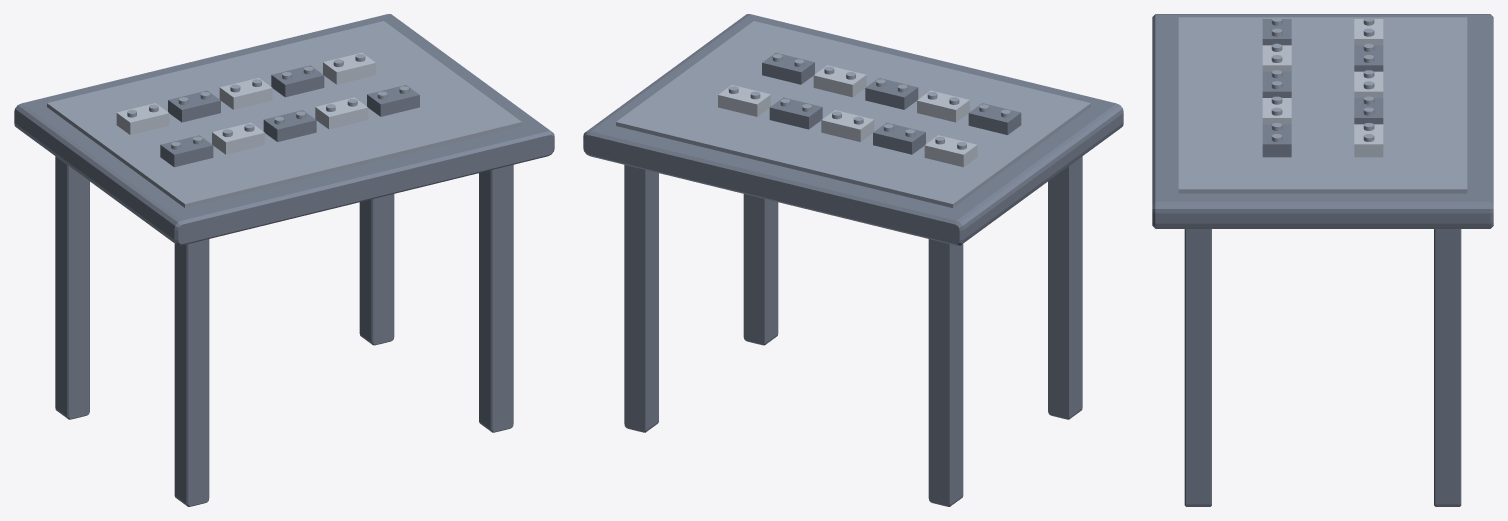
File: building-block-table.glb
The picture shows the model from 3 angles, left to right: view 1: azimuth 30°, elevation 25°; view 2: azimuth 150°, elevation 25°; view 3: azimuth 270°, elevation 25°; orthographic projection. The views are drawn at different scales.
Parts seen in each view (by area): view 1: body, soft, light, accent; view 2: body, soft, accent, light; view 3: soft, body, light, accent.
Part boxes in pixels (bbox=[...]): body: bbox=[14, 14, 554, 506]; soft: bbox=[47, 21, 521, 207]; light: bbox=[116, 52, 375, 154]; accent: bbox=[160, 65, 419, 167]; body: bbox=[583, 14, 1123, 506]; soft: bbox=[616, 21, 1090, 207]; accent: bbox=[762, 52, 1021, 154]; light: bbox=[718, 65, 977, 167]; soft: bbox=[1178, 17, 1467, 193]; body: bbox=[1152, 14, 1493, 506]; light: bbox=[1262, 19, 1383, 157]; accent: bbox=[1262, 19, 1383, 157].
Bounding box in the file's own units: 0.7 × 0.5695 × 0.52.
